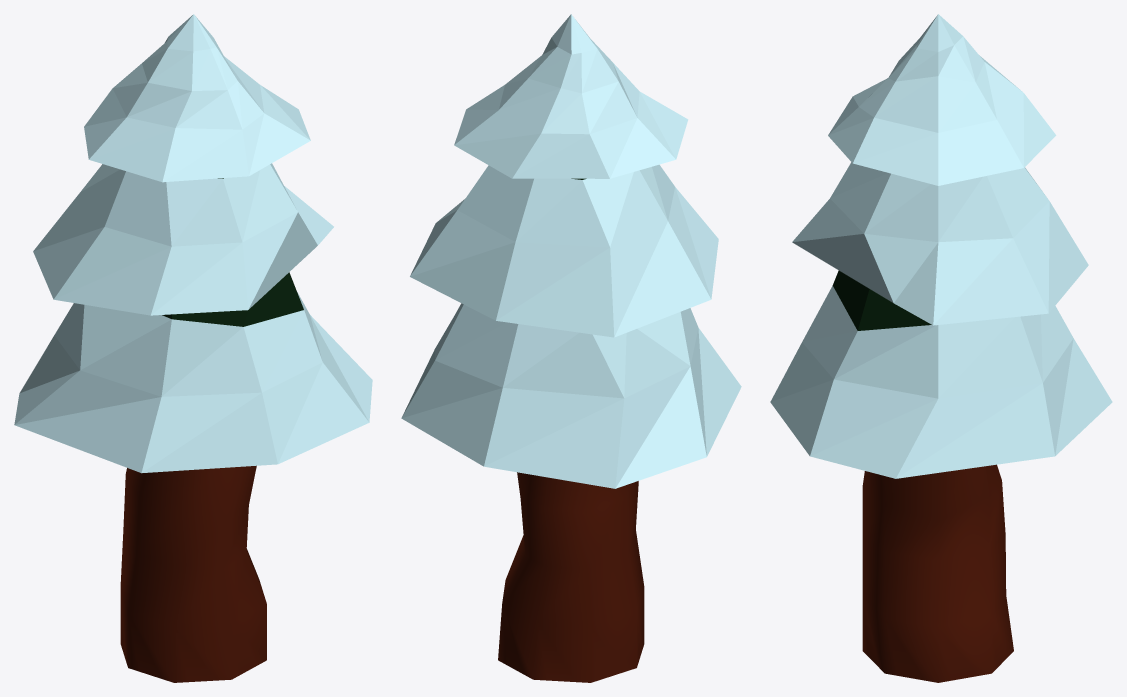
Rendered from tree1.fbx.
The picture shows the model from 3 angles, left to right: view 1: azimuth 30°, elevation 25°; view 2: azimuth 150°, elevation 25°; view 3: azimuth 270°, elevation 25°; orthographic projection.
Visible parts, largest first — view 1: tree1; view 2: tree1; view 3: tree1.
Boxes of the visible parts, x1,y1,x2,y2 form: tree1: (14,14,372,682); tree1: (401,14,741,682); tree1: (770,14,1112,682).
Size of the model in its own units: 98.88 by 191 by 93.21.
